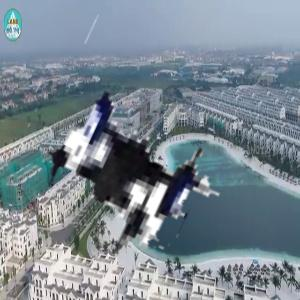drone: (13, 4, 269, 260)
